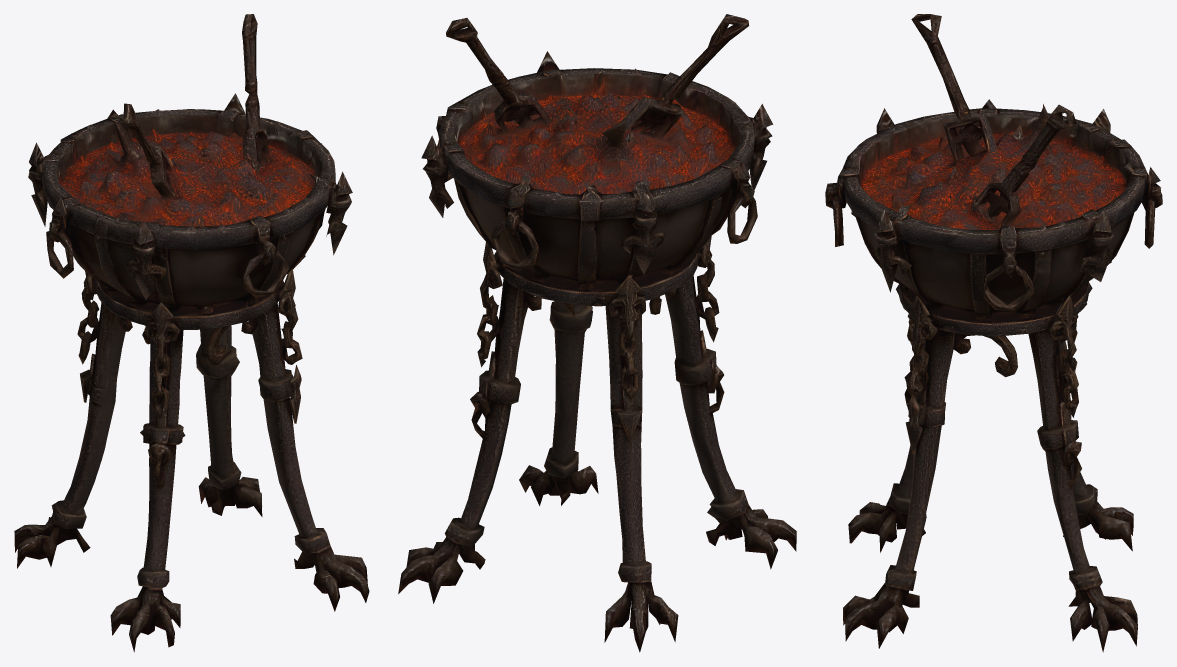
The model's file is raw_brazier.glb.
3 views of the same model, side by side, from view 1: azimuth 30°, elevation 25°; view 2: azimuth 150°, elevation 25°; view 3: azimuth 270°, elevation 25° (orthographic). The views are drawn at different scales.
Parts seen in each view (by area): view 1: tripo_node_6e337dec-71fd-410f-babc-d2d5c6b4bfc6; view 2: tripo_node_6e337dec-71fd-410f-babc-d2d5c6b4bfc6; view 3: tripo_node_6e337dec-71fd-410f-babc-d2d5c6b4bfc6.
Part boxes in pixels (x1,y1,x2,y2): tripo_node_6e337dec-71fd-410f-babc-d2d5c6b4bfc6: (14,14,369,652); tripo_node_6e337dec-71fd-410f-babc-d2d5c6b4bfc6: (398,14,796,652); tripo_node_6e337dec-71fd-410f-babc-d2d5c6b4bfc6: (825,14,1162,652).
Size of the model in its own units: 0.5749 by 1 by 0.5755.
1 material, 1 textured.
